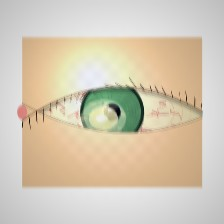corneal_ulcer: (80, 99, 127, 137)
